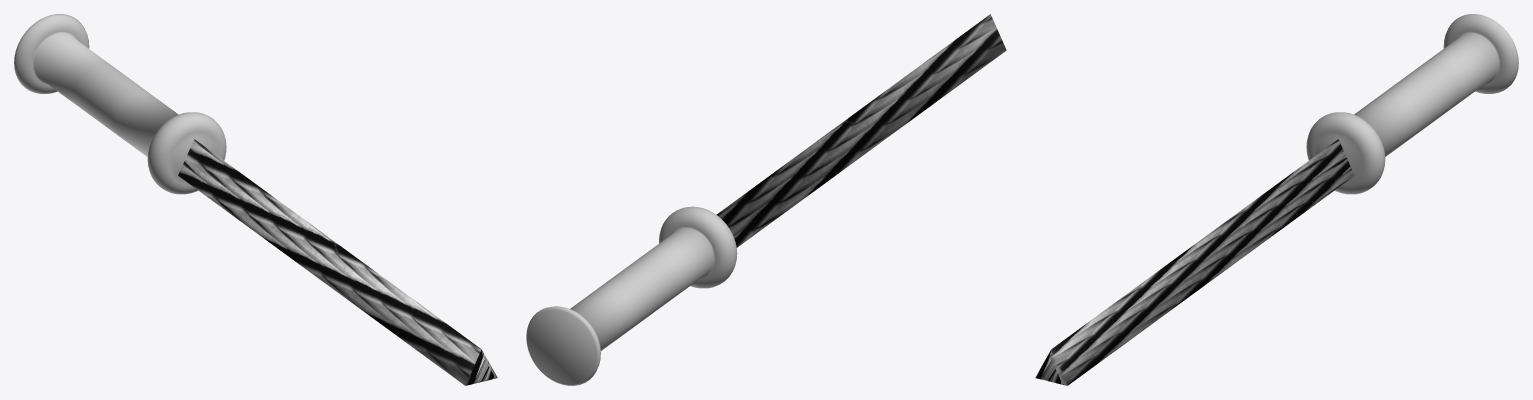
The model's file is FeileNeu.fbx.
3 views of the same model, side by side, from view 1: azimuth 30°, elevation 25°; view 2: azimuth 150°, elevation 25°; view 3: azimuth 330°, elevation 25° (orthographic).
Parts seen in each view (by area): view 1: Feile; view 2: Feile; view 3: Feile.
Boxes of the visible parts, <box> form: Feile: <box>14,14,497,385</box>; Feile: <box>526,14,1006,385</box>; Feile: <box>1035,14,1518,385</box>.
Size of the model in its own units: 3000 by 3000 by 30000.
